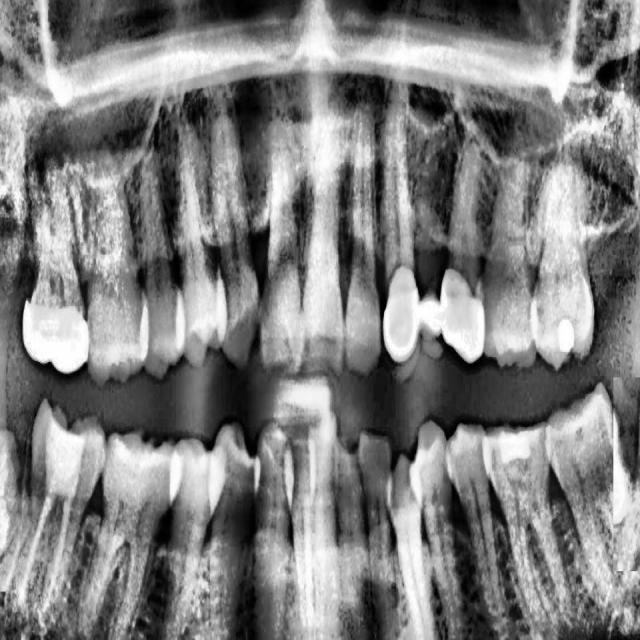Impacted Tooth: (0, 391, 33, 593), (613, 377, 640, 571)
